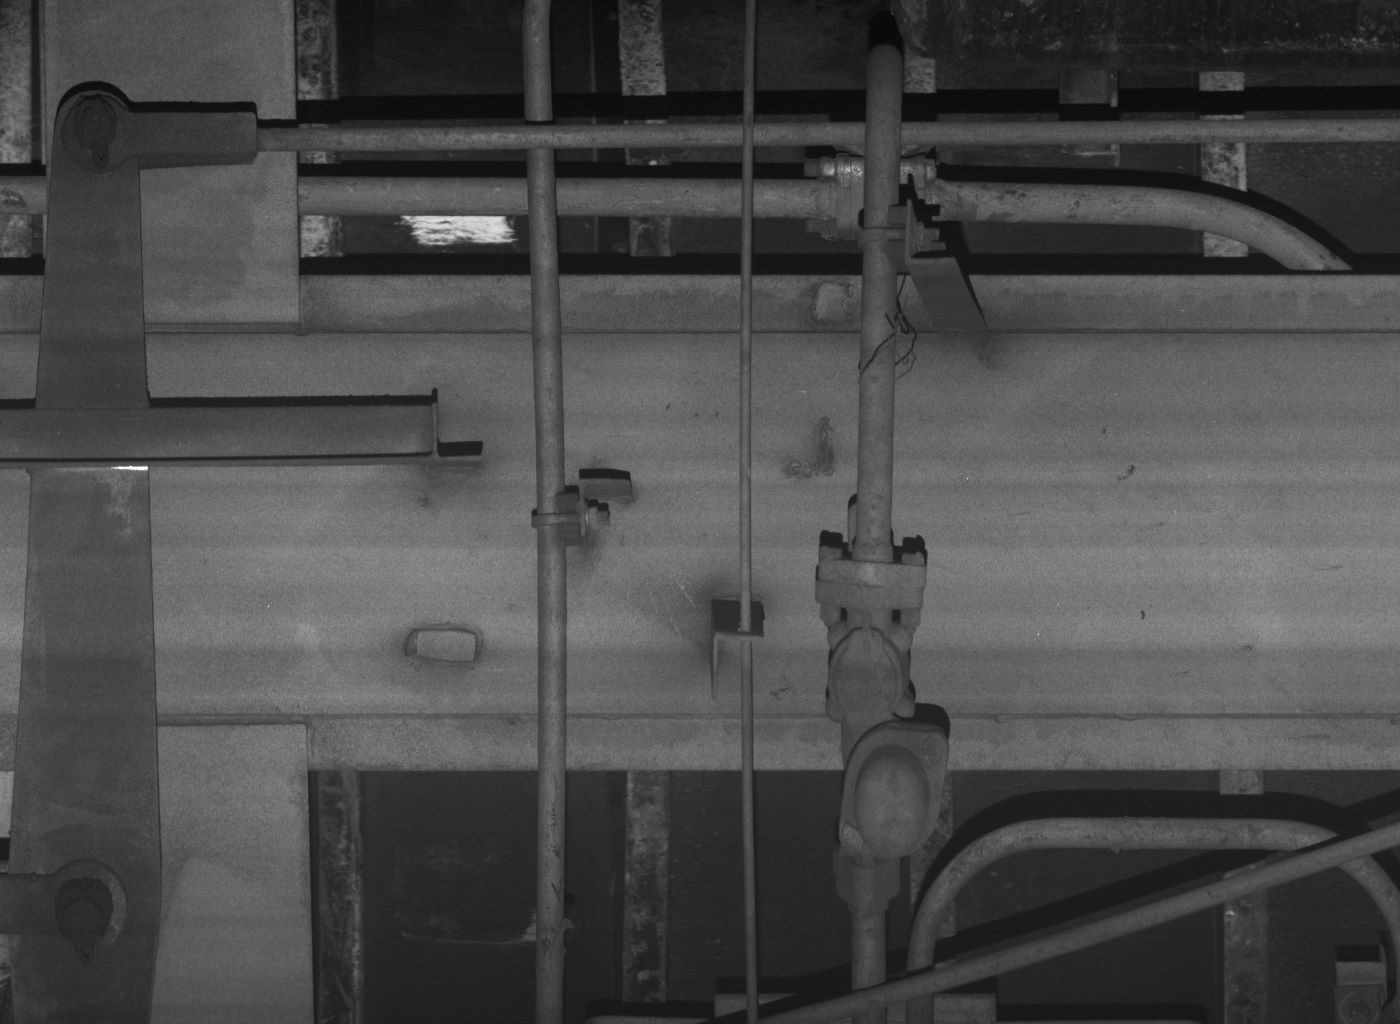normal: (823, 621, 916, 722)
